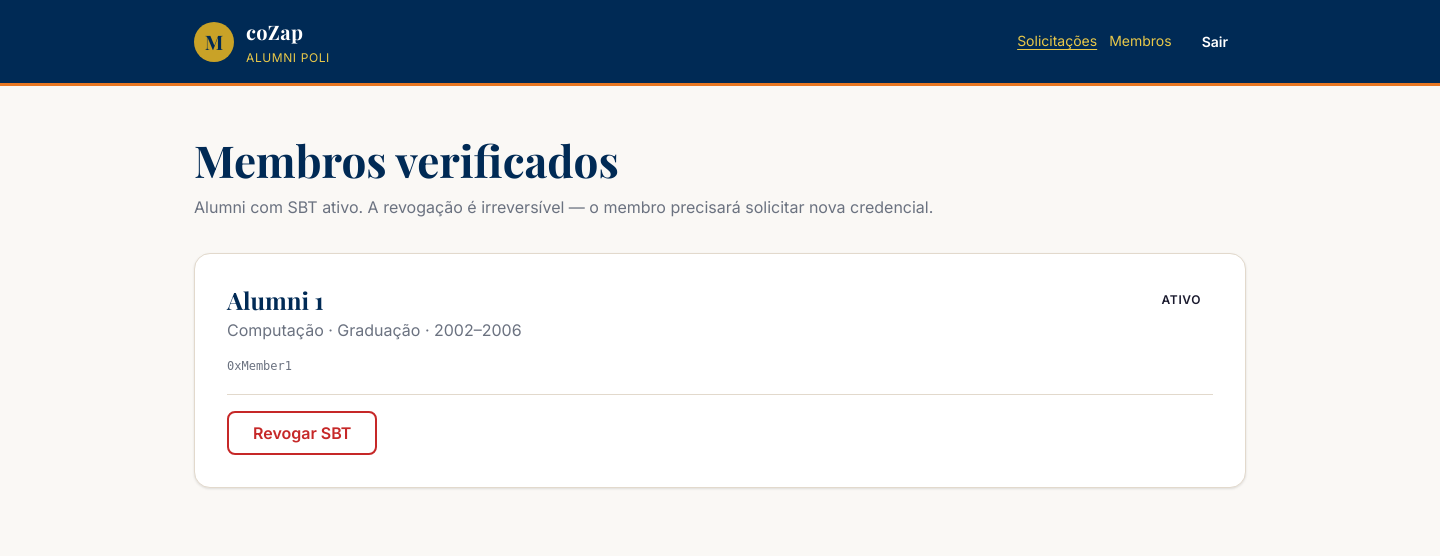
Test: MembrosPage › cancelar fecha confirmação sem alterar lista
The image size is (1440, 556).
Expected: the heading "Alumni 1" is shown, [227,284,324,316]
Click the button "Revogar SBT": (302, 433) [227,411,377,455]
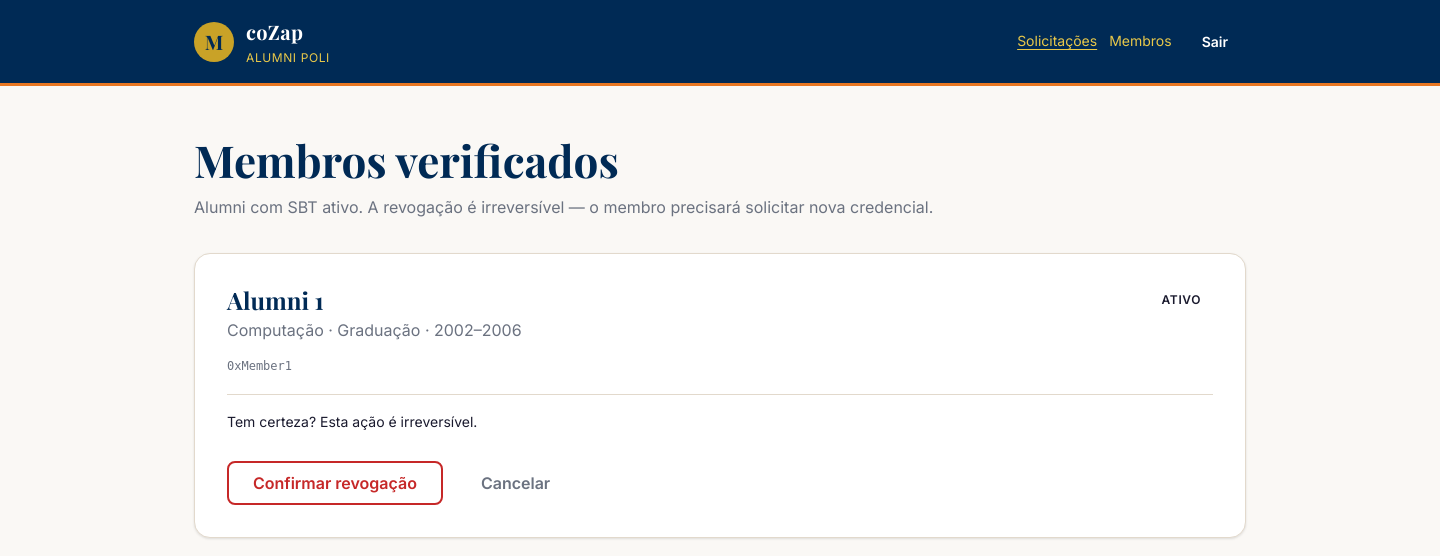
Expected: the button "Confirmar revogação" is shown, [227,461,443,505]
Click the button "Cancelar": (516, 483) [455,461,576,505]
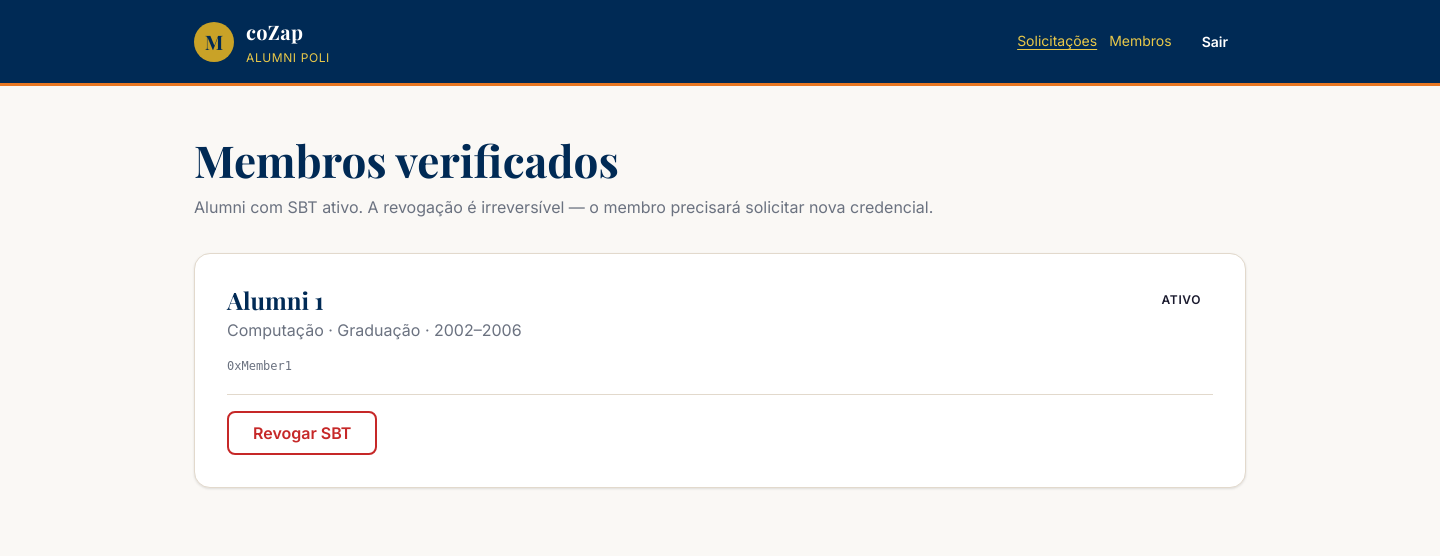
Expected: the heading "Alumni 1" is shown, [227,284,324,316]
Expected: the button "Confirmar revogação" is gone
